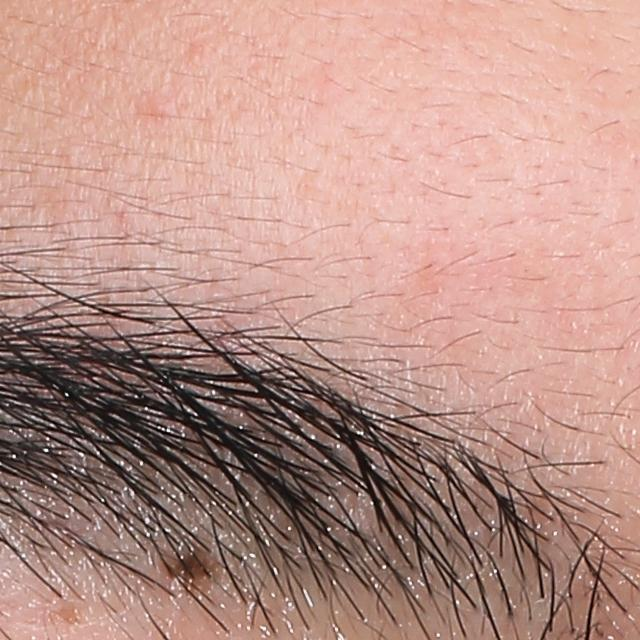nevus: (163, 543, 217, 599)
